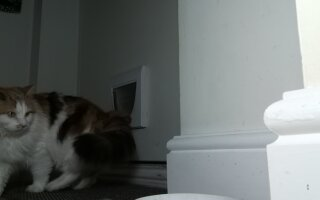clara: (3, 85, 139, 194)
